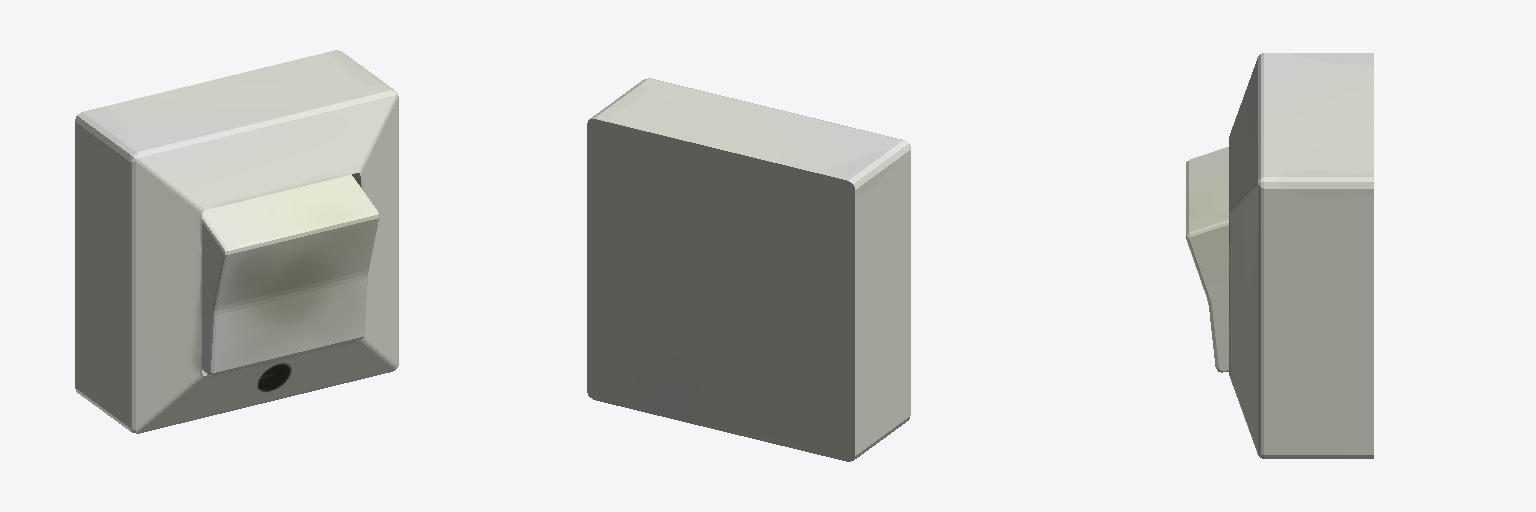
3 views of the same model, side by side, from view 1: azimuth 30°, elevation 25°; view 2: azimuth 150°, elevation 25°; view 3: azimuth 270°, elevation 25° (orthographic).
Visible parts, largest first — view 1: Cube, Cube.001; view 2: Cube; view 3: Cube, Cube.001.
Part boxes in pixels (bbox=[...]): Cube: bbox=[75, 50, 398, 433]; Cube.001: bbox=[202, 174, 378, 375]; Cube: bbox=[587, 78, 910, 461]; Cube: bbox=[1229, 53, 1373, 458]; Cube.001: bbox=[1186, 147, 1228, 372].
Size of the model in its own units: 1.04 by 1.04 by 0.6272.
2 materials, 1 textured.